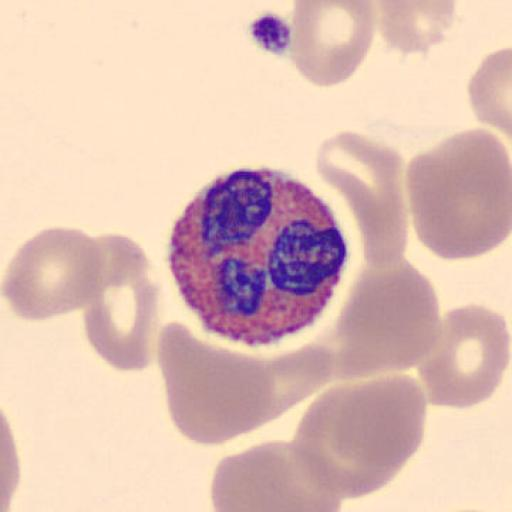RBC: (156, 319, 312, 448), (291, 372, 427, 500), (405, 126, 511, 263), (313, 129, 408, 270), (331, 265, 443, 380), (290, 394, 400, 500), (82, 231, 160, 373), (2, 224, 106, 323), (416, 301, 510, 410), (208, 437, 344, 512), (329, 373, 428, 472), (286, 0, 377, 89), (372, 0, 460, 55), (468, 44, 512, 140), (0, 402, 21, 512)
WBC: (166, 163, 349, 348)
